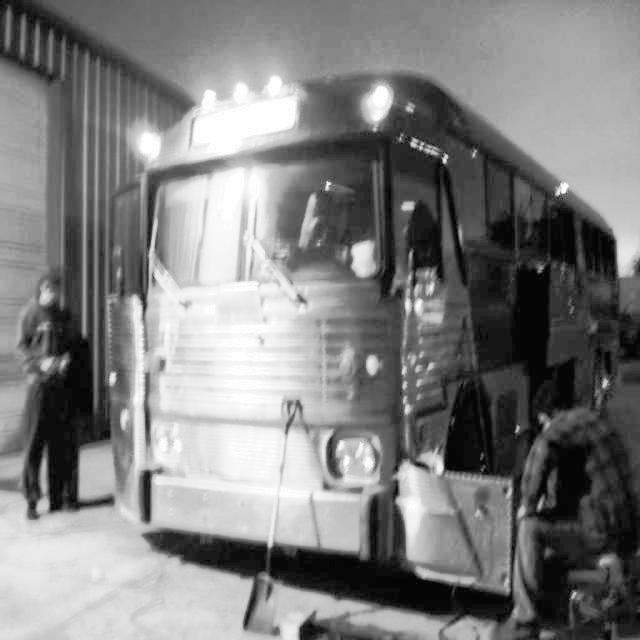Bus: (127, 89, 640, 640)
